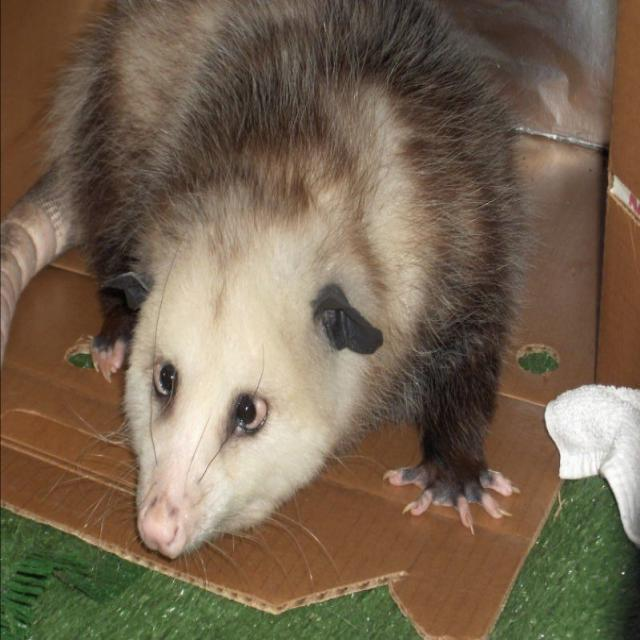possum: (2, 0, 525, 558)
